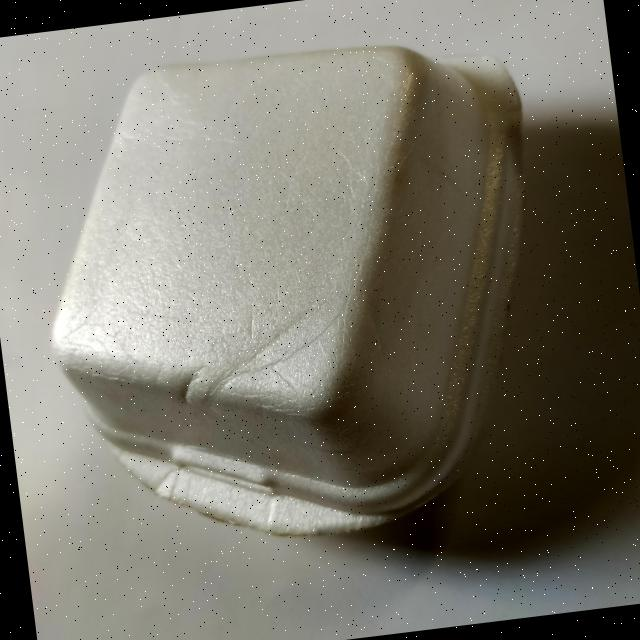styrofoam: (17, 21, 573, 568)
